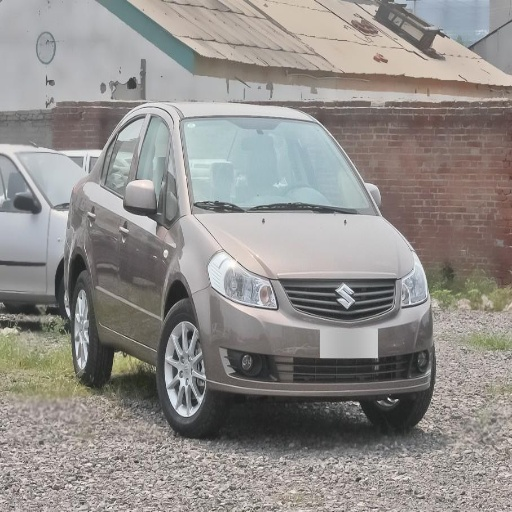front_bumper: (197, 277, 433, 412)
front_right_door: (125, 111, 173, 344), (3, 159, 48, 289)
front_right_light: (209, 253, 278, 308)
hood: (200, 214, 414, 277)
